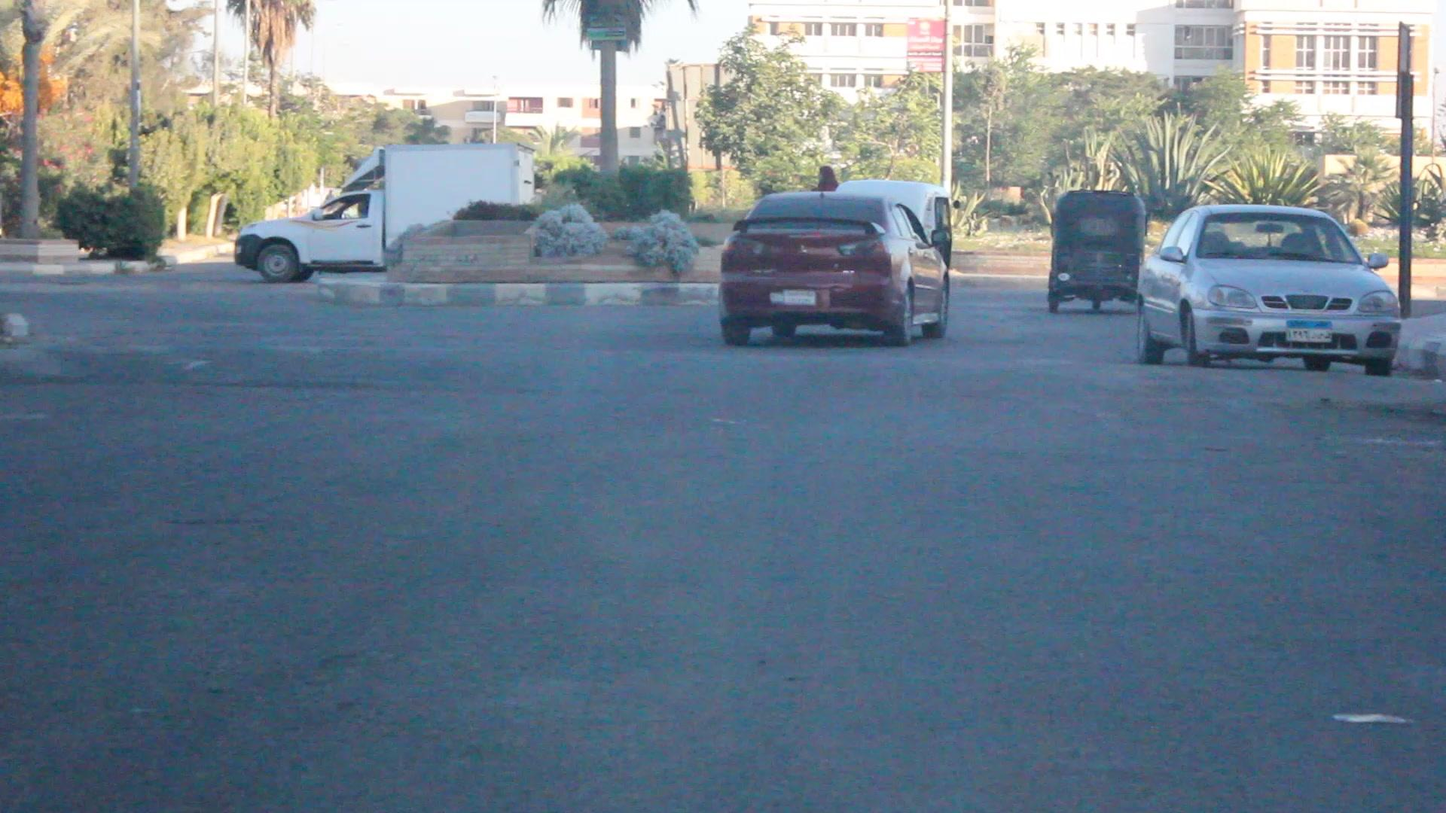Bump: (0, 341, 1445, 438)
